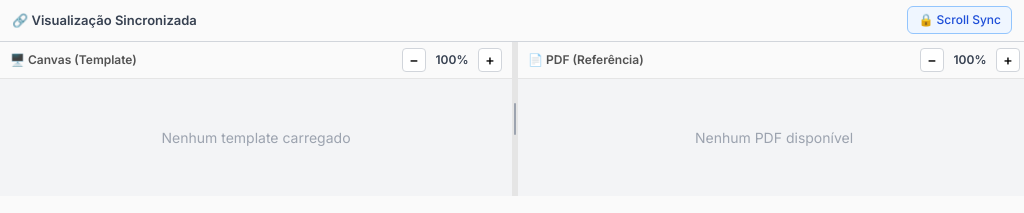
it: SyncView › canvas and PDF zoom levels are independent
# Zoom in canvas
Click the button with class "sync-view__zoom-btn" in the row of "🖥️ Canvas (Template)": {"x": 490, "y": 60} x1=478 y1=48 x2=502 y2=72
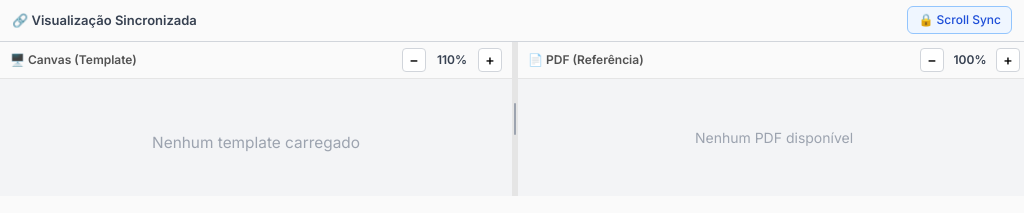
expect the text with class "sync-view__zoom-value" reads "100%": met, box x1=954 y1=52 x2=986 y2=67
expect the text with class "sync-view__zoom-value" reads "110%": met, box x1=437 y1=52 x2=467 y2=67
